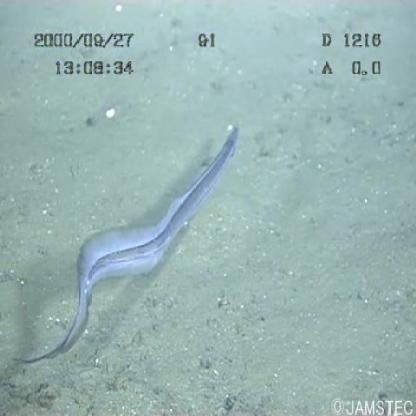Bio: (10, 120, 243, 366)
